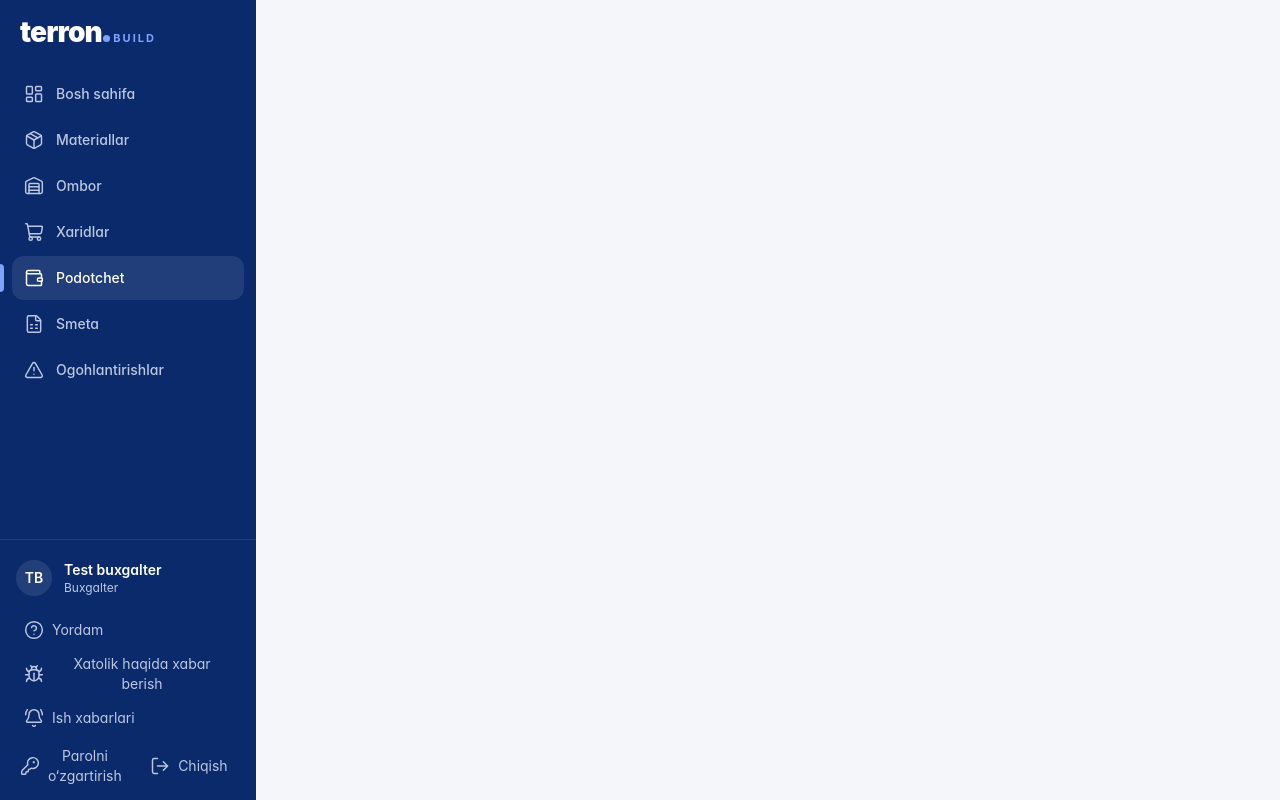
it: Yon menyu: Yordam va Xatolik haqida xabar › xabar yuboriladi: joriy ekran va "web" qurilma; rahmat
This screenshot has width=1280, height=800.
Click the button "Xatolik haqida xabar berish".
click(128, 674)  # box [12,652,244,696]
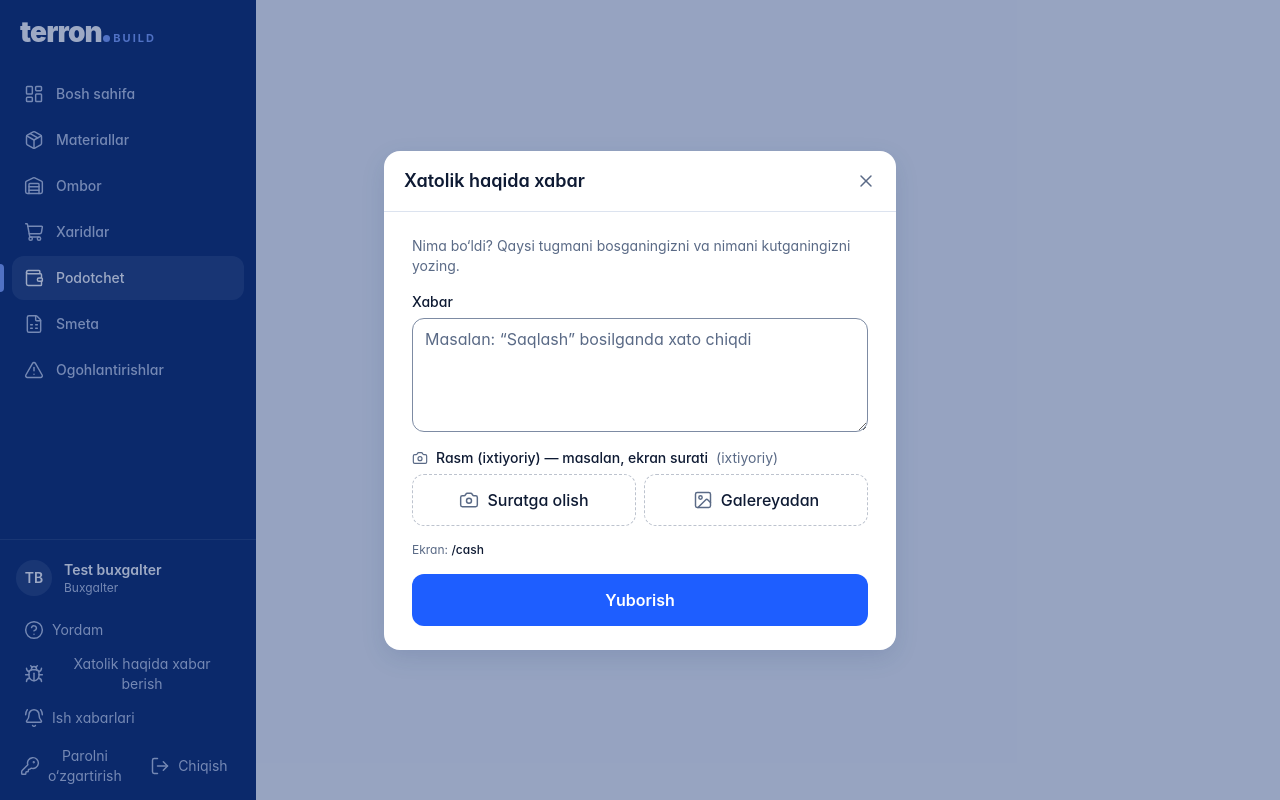
expect the text "/cash" is shown: met, box [451,542,484,556]
Type "Excel yuklanmadi" into the text box labelled "Xabar".
click(640, 374); type("Excel yuklanmadi")  # box [412,318,868,432]
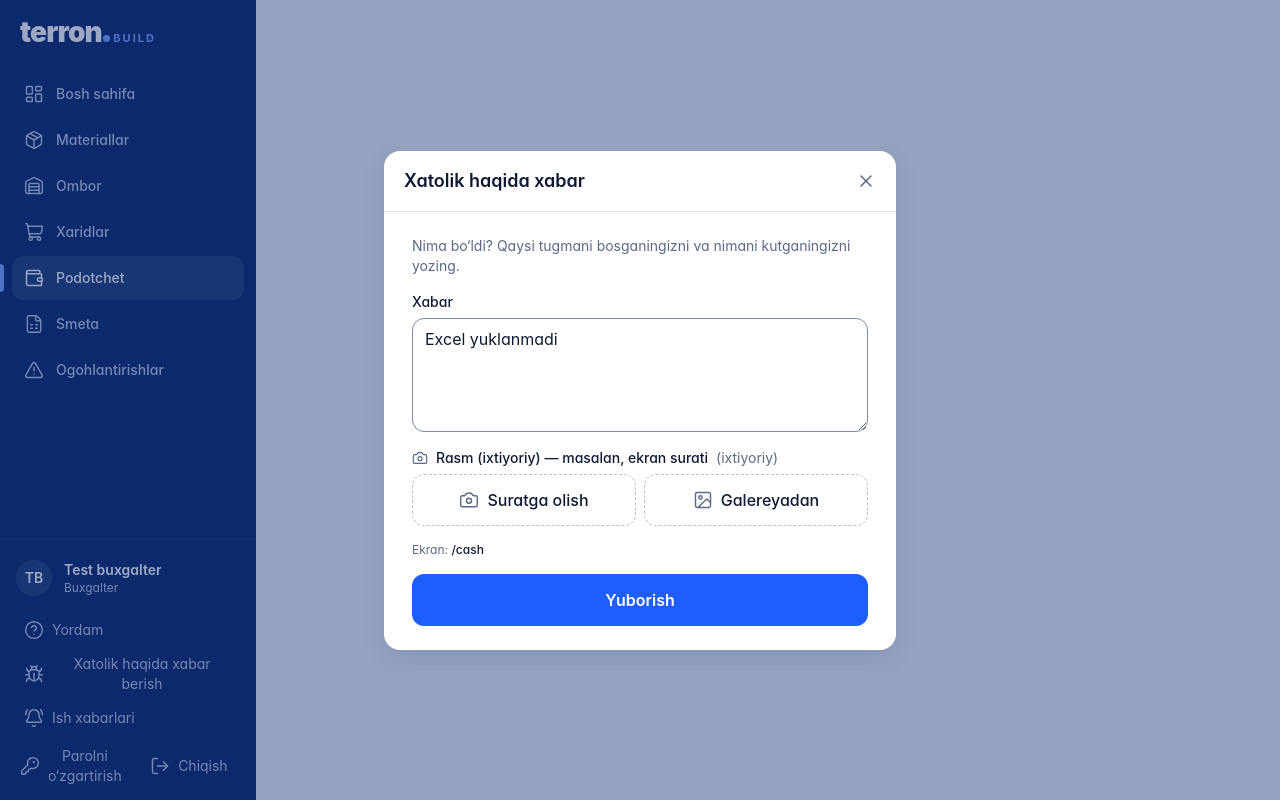
Click the button "Yuborish".
click(640, 600)  # box [412,574,868,626]
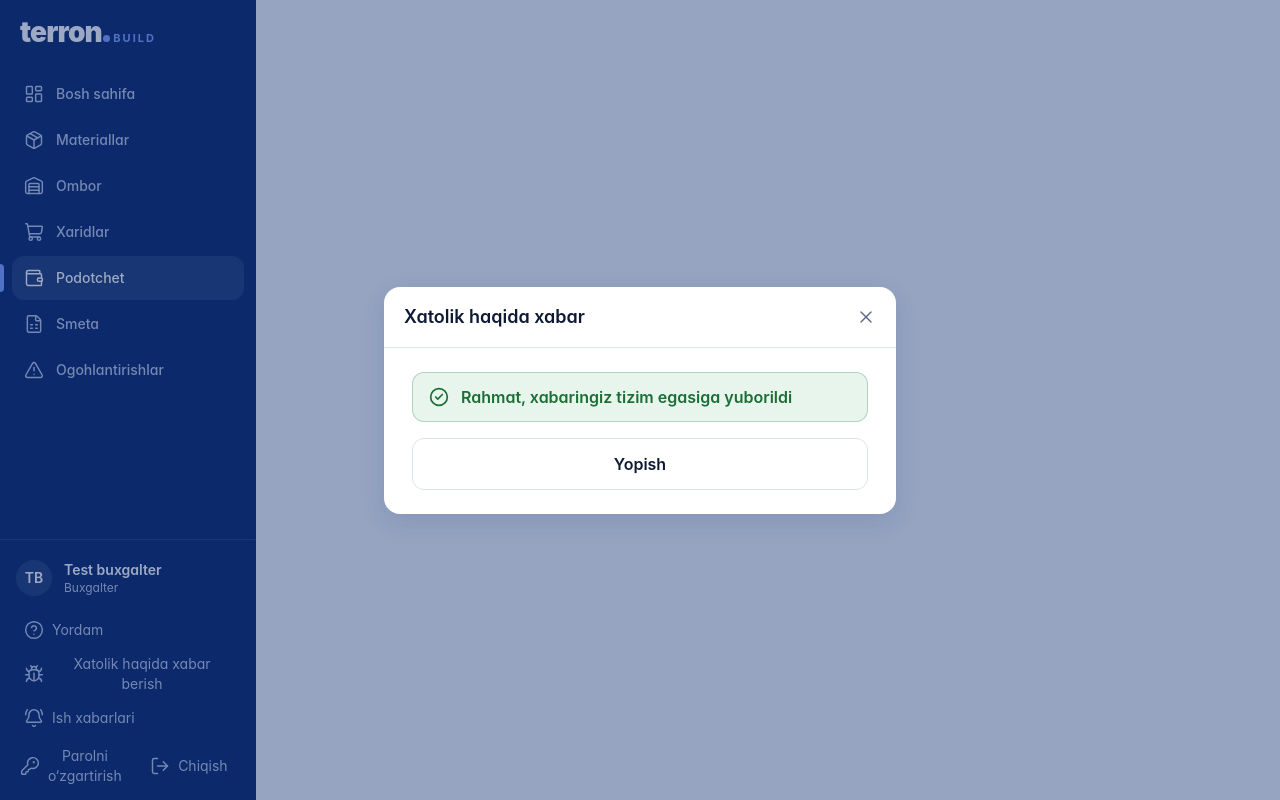
expect the text "Rahmat, xabaringiz tizim egasiga yuborildi" is shown: met, box [461,384,792,408]
Click the button "Yopish".
click(640, 464)  # box [412,438,868,490]
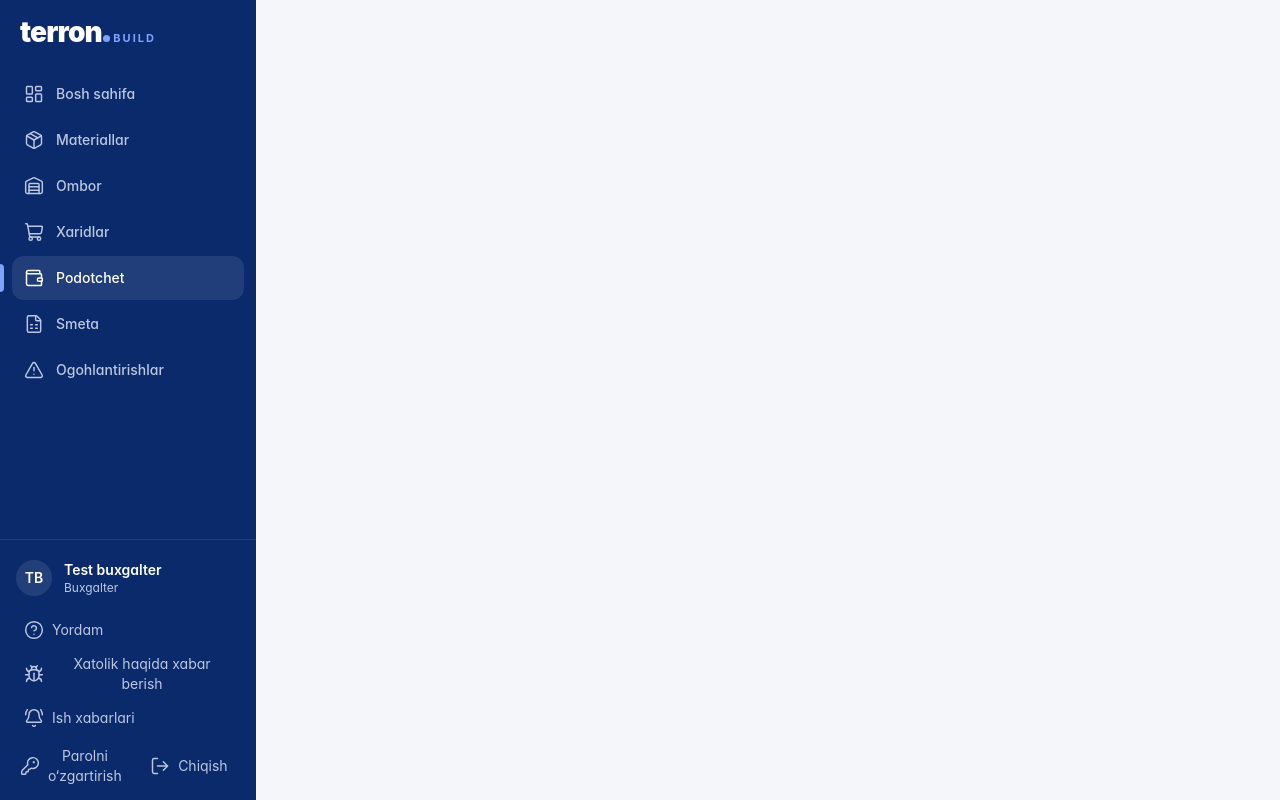
expect the dialog is gone: met
